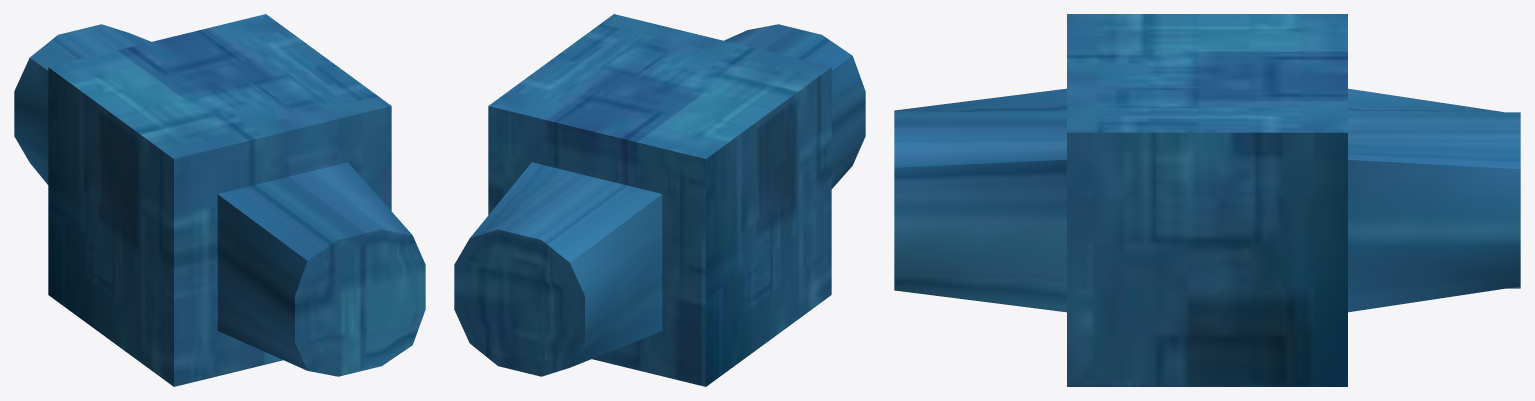
The picture shows the model from 3 angles, left to right: view 1: azimuth 30°, elevation 25°; view 2: azimuth 150°, elevation 25°; view 3: azimuth 270°, elevation 25°; orthographic projection. The views are drawn at different scales.
Visible parts, largest first — view 1: testMesh; view 2: testMesh; view 3: testMesh.
Boxes of the visible parts, left/top/right/bottom form: testMesh: left=14, top=14, right=425, bottom=386; testMesh: left=454, top=14, right=865, bottom=386; testMesh: left=894, top=14, right=1520, bottom=386.
Size of the model in its own units: 1 by 1 by 2.23.
